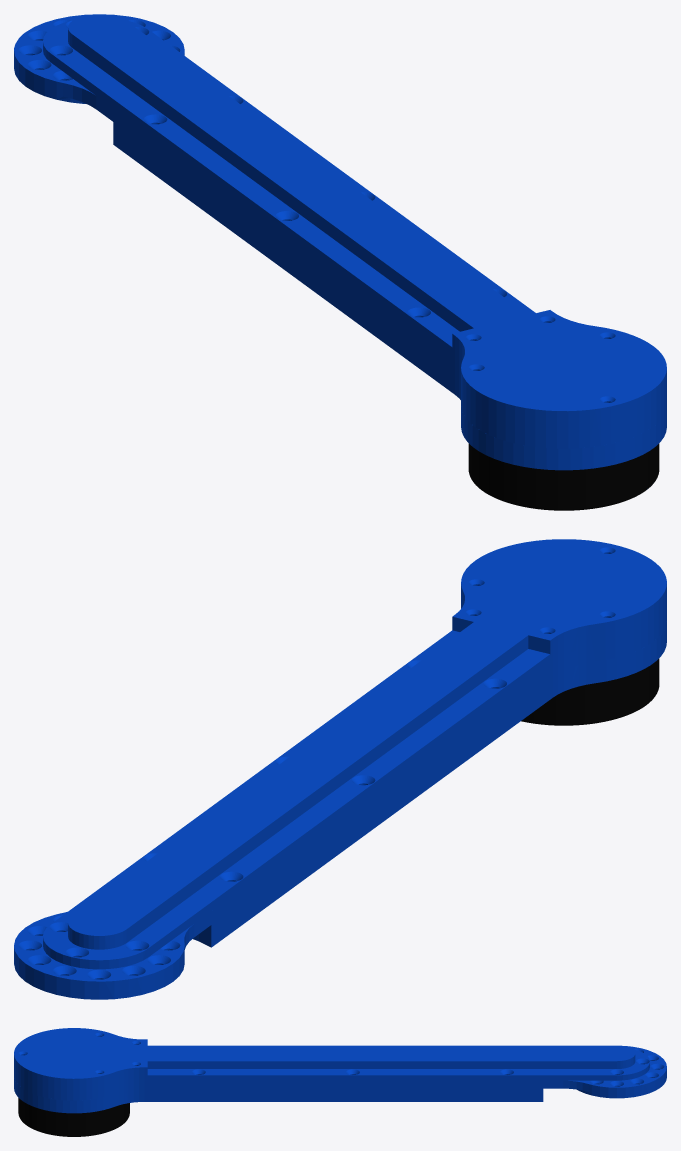
The model's file is WeMO_Leg_calf.dae.
3 renders of one model, top to bottom at view 1: azimuth 30°, elevation 25°; view 2: azimuth 150°, elevation 25°; view 3: azimuth 270°, elevation 25°, orthographic. The views are drawn at different scales.
Visible parts, largest first — view 1: WeMO_Leg_calf_v2; view 2: WeMO_Leg_calf_v2; view 3: WeMO_Leg_calf_v2.
Boxes of the visible parts, left/top/right/bottom form: WeMO_Leg_calf_v2: left=14, top=14, right=666, bottom=510; WeMO_Leg_calf_v2: left=14, top=539, right=666, bottom=999; WeMO_Leg_calf_v2: left=14, top=1028, right=666, bottom=1136.
Size of the model in its own units: 81.99 by 445 by 46.5.
